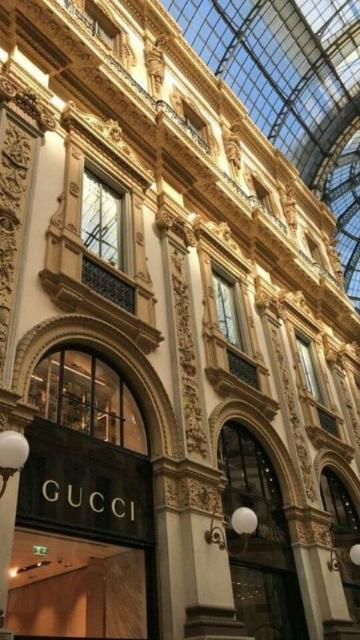Gucci: (40, 478, 138, 522)
